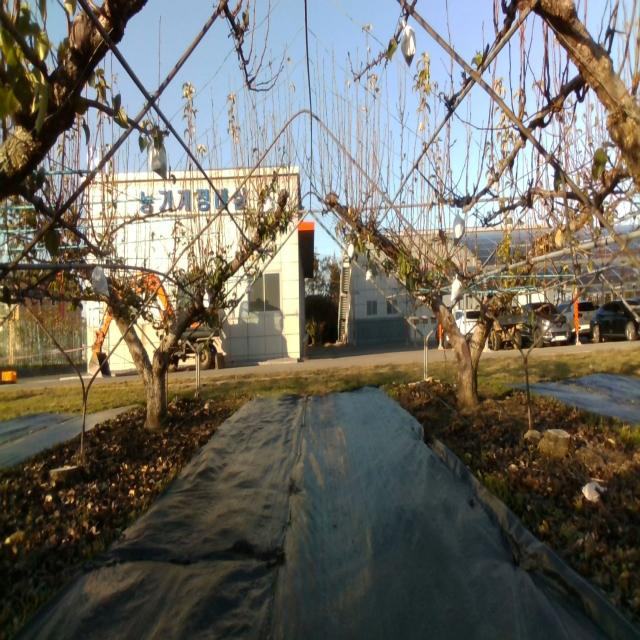pearbags: (90, 264, 111, 299), (401, 20, 415, 70), (150, 144, 167, 182), (452, 212, 465, 248), (451, 274, 464, 302)
